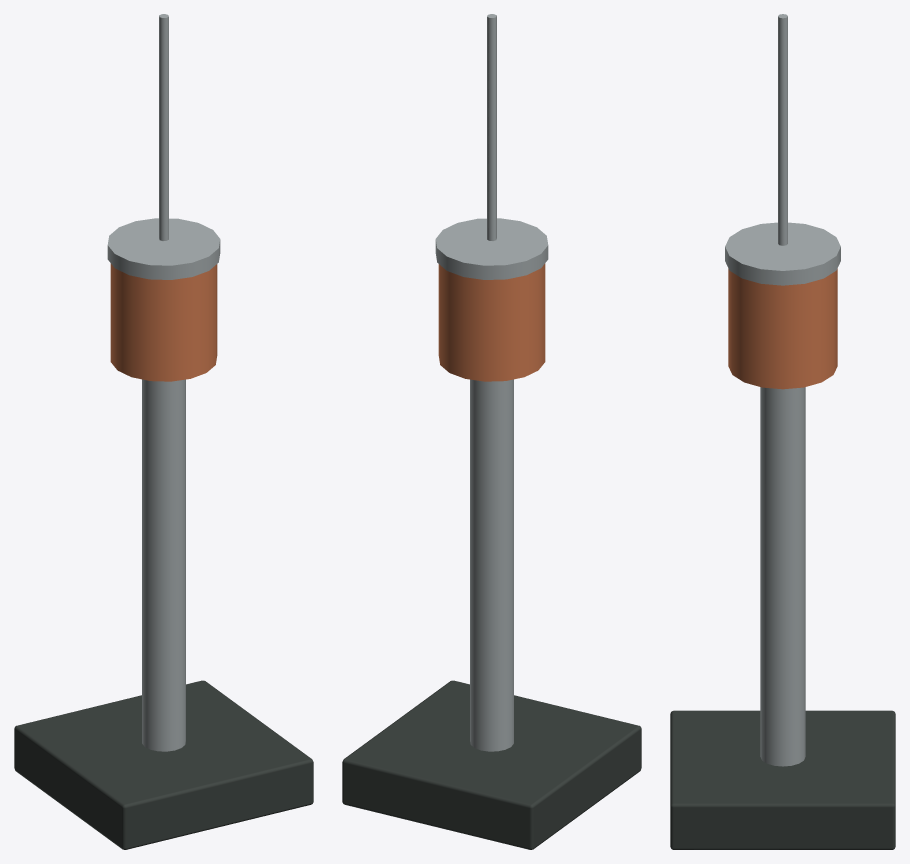
Rendered from extraction-routes-and-objectives-extraction-beacon-e4be6db2__22134.glb.
3 renders of one model, left to right at view 1: azimuth 30°, elevation 25°; view 2: azimuth 150°, elevation 25°; view 3: azimuth 270°, elevation 25°, orthographic. The views are drawn at different scales.
Visible parts, largest first — view 1: extraction-beacon; view 2: extraction-beacon; view 3: extraction-beacon.
Boxes of the visible parts, <box> form: extraction-beacon: <box>14,14,313,849</box>; extraction-beacon: <box>342,14,641,849</box>; extraction-beacon: <box>670,14,895,849</box>.
Size of the model in its own units: 0.35 by 1.35 by 0.35.
